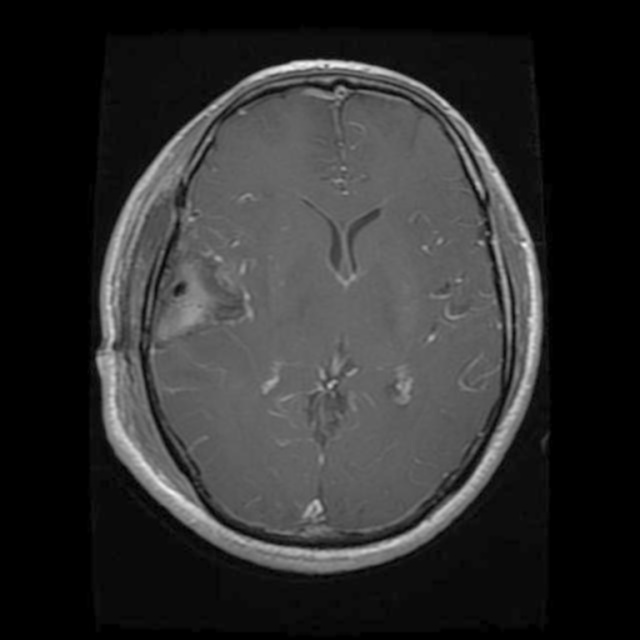pituitary tumor: (154, 248, 238, 344)
